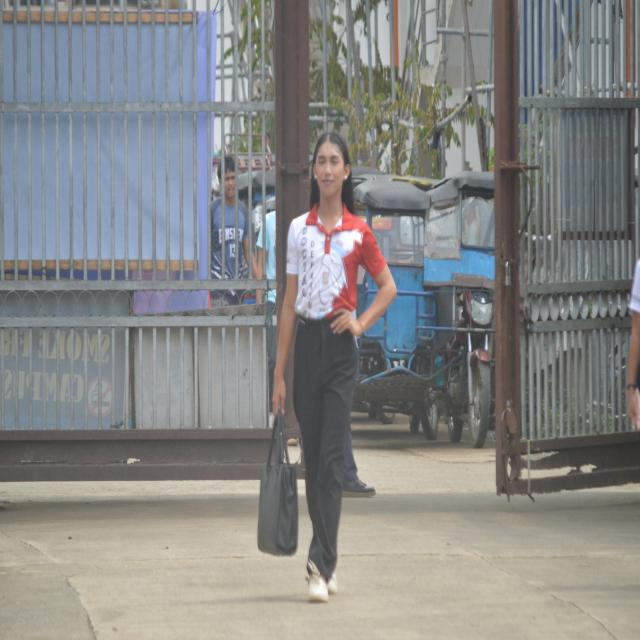person: (273, 133, 396, 602), (256, 211, 275, 283)
